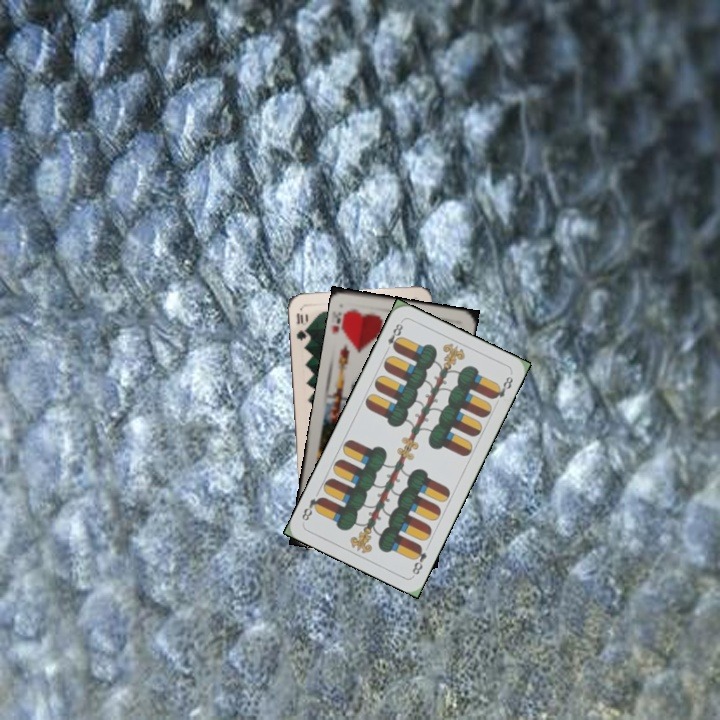E8: (381, 317, 406, 355), (408, 541, 430, 578)
G10: (292, 308, 310, 343)
HK: (331, 306, 352, 340)
